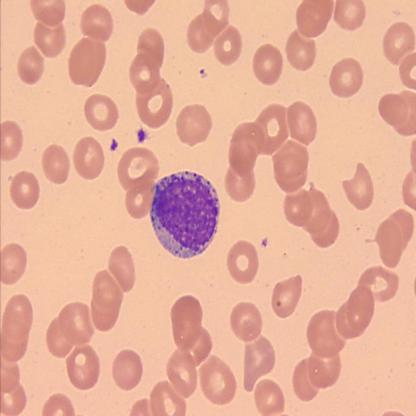Myelocyte: (150, 169, 218, 257)
